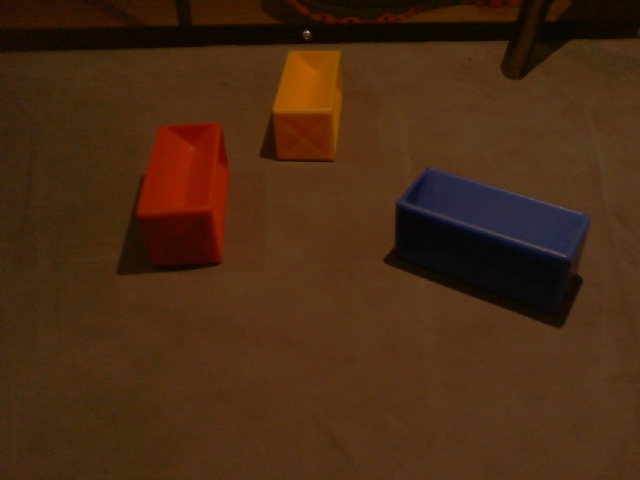BlueSample: (388, 162, 591, 315)
RedSample: (131, 121, 233, 271)
YellowSample: (270, 48, 346, 165)
